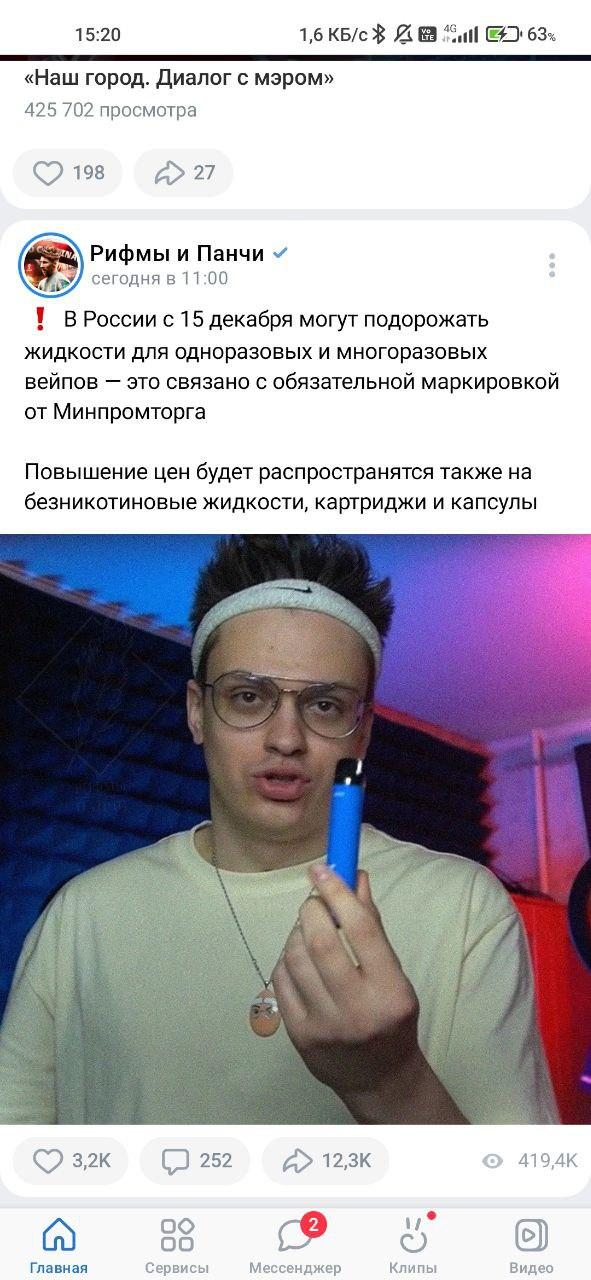Vape: (325, 759, 364, 891)
